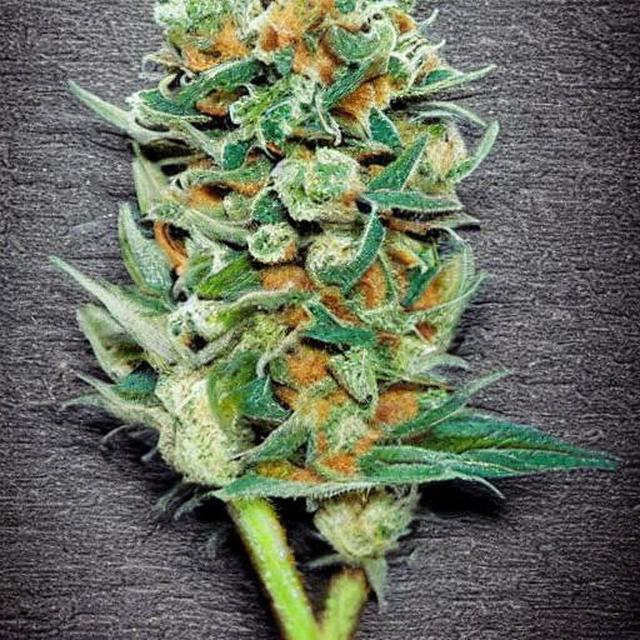Marijuana Plant: (62, 1, 525, 638)
